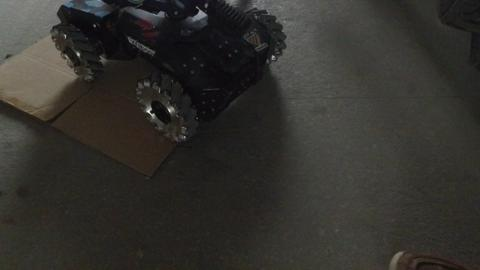chariot: (37, 3, 306, 149)
